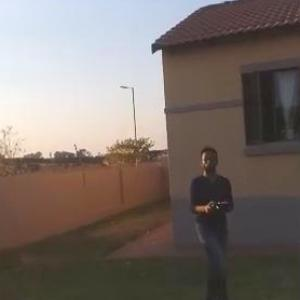follow: (186, 142, 242, 299)
